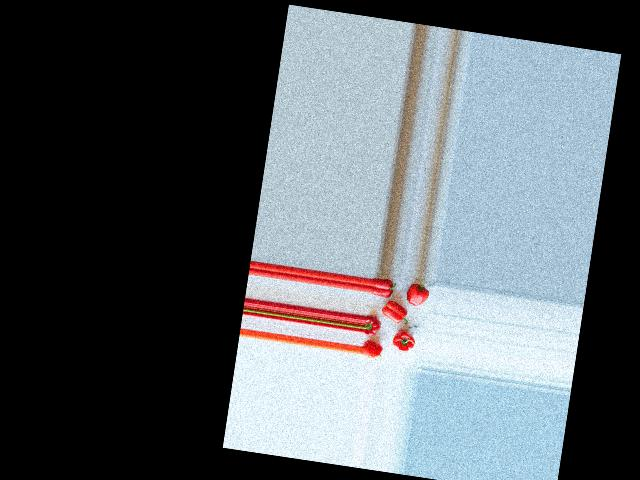bell_pepper: (364, 314, 383, 337)
